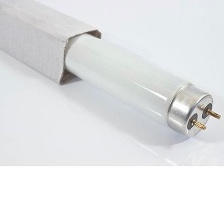carton: (0, 0, 106, 90)
light_bulb: (0, 0, 222, 141)
